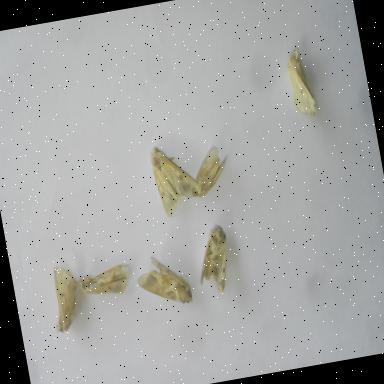abw: (146, 136, 208, 223), (132, 249, 198, 316), (189, 220, 240, 300), (43, 258, 89, 338), (184, 138, 238, 204), (73, 255, 141, 305), (282, 42, 322, 124)
